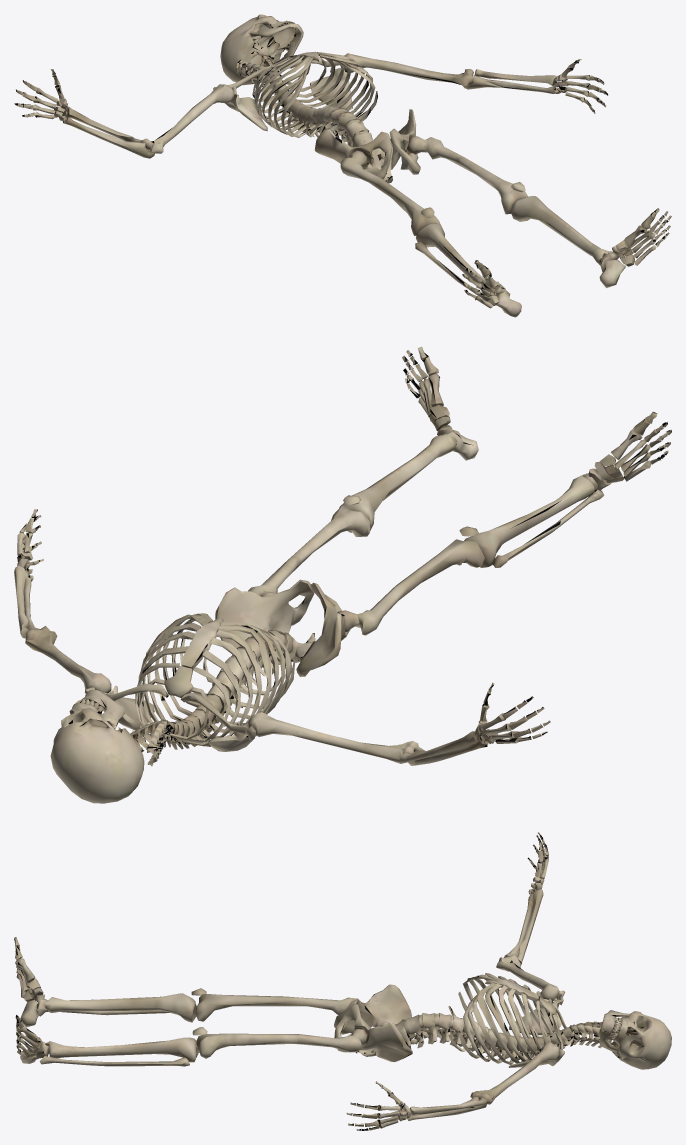
Rendered from skeleton_lie.glb.
3 renders of one model, top to bottom at view 1: azimuth 30°, elevation 25°; view 2: azimuth 150°, elevation 25°; view 3: azimuth 270°, elevation 25°, orthographic. The views are drawn at different scales.
Parts seen in each view (by area): view 1: skeleton_lie; view 2: skeleton_lie; view 3: skeleton_lie.
Part boxes in pixels (x1,y1,x2,y2): skeleton_lie: (14,14,671,317); skeleton_lie: (14,346,671,803); skeleton_lie: (14,832,671,1130).
Bounding box in the file's own units: 1.46 × 0.3202 × 1.76.
1 material, 1 textured.
